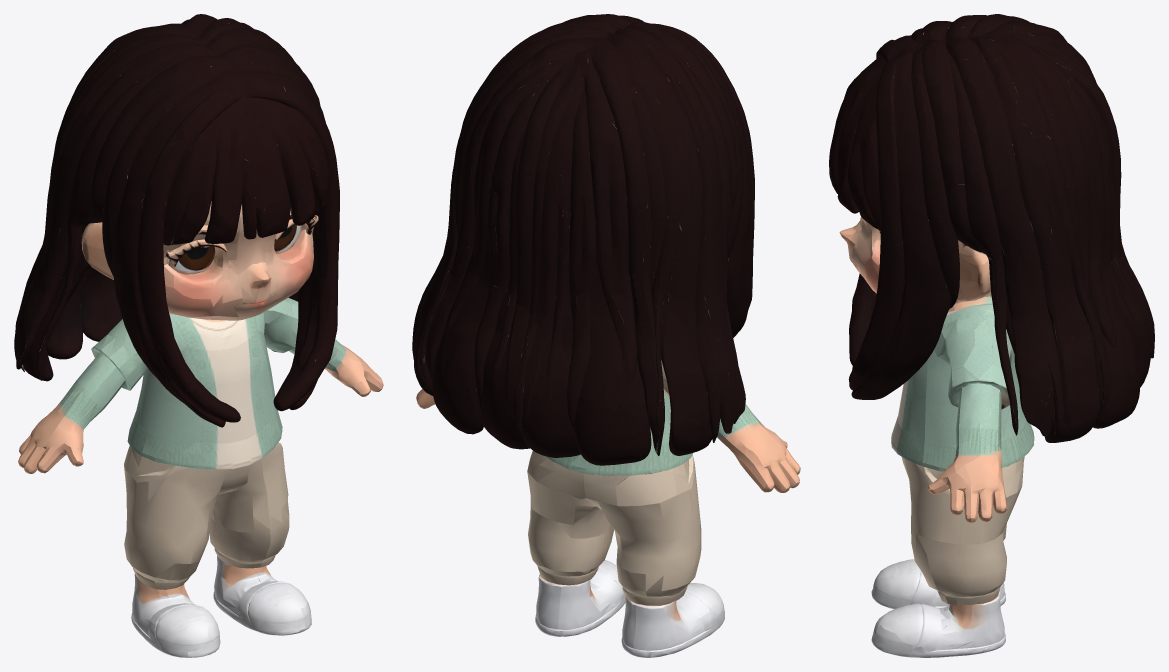
Rendered from retex_spring_01a12002-17ac-733c-9832-b0c31d986e11.glb.
3 views of the same model, side by side, from view 1: azimuth 30°, elevation 25°; view 2: azimuth 150°, elevation 25°; view 3: azimuth 270°, elevation 25° (orthographic). The views are drawn at different scales.
Bounding box in the file's own units: 1.23 × 1.9 × 0.9461.
1 material, 1 textured.
